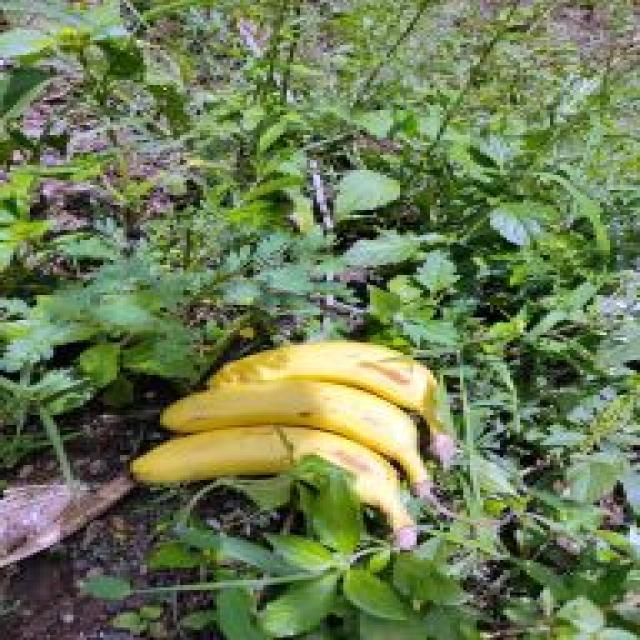banana: (130, 425, 417, 548), (162, 380, 430, 494), (210, 341, 452, 441)
